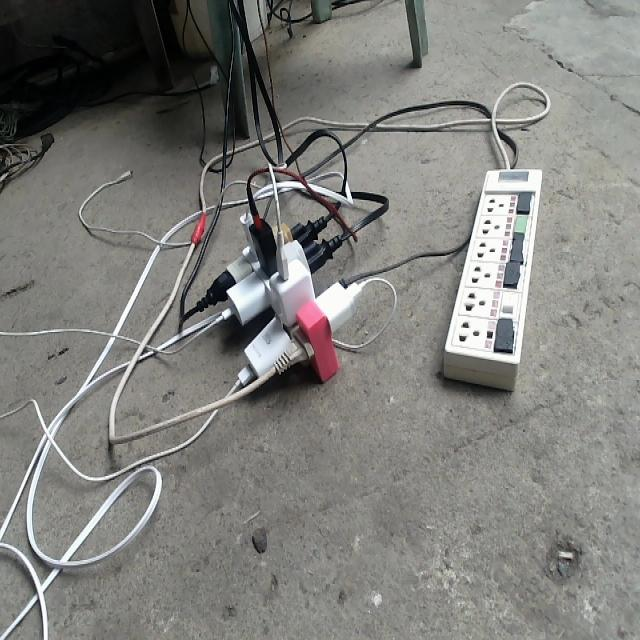-: (192, 199, 369, 385)
